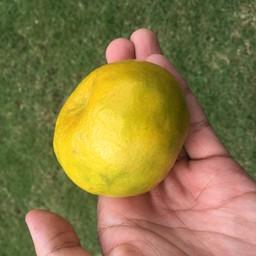Good_orange: (50, 61, 190, 195)
